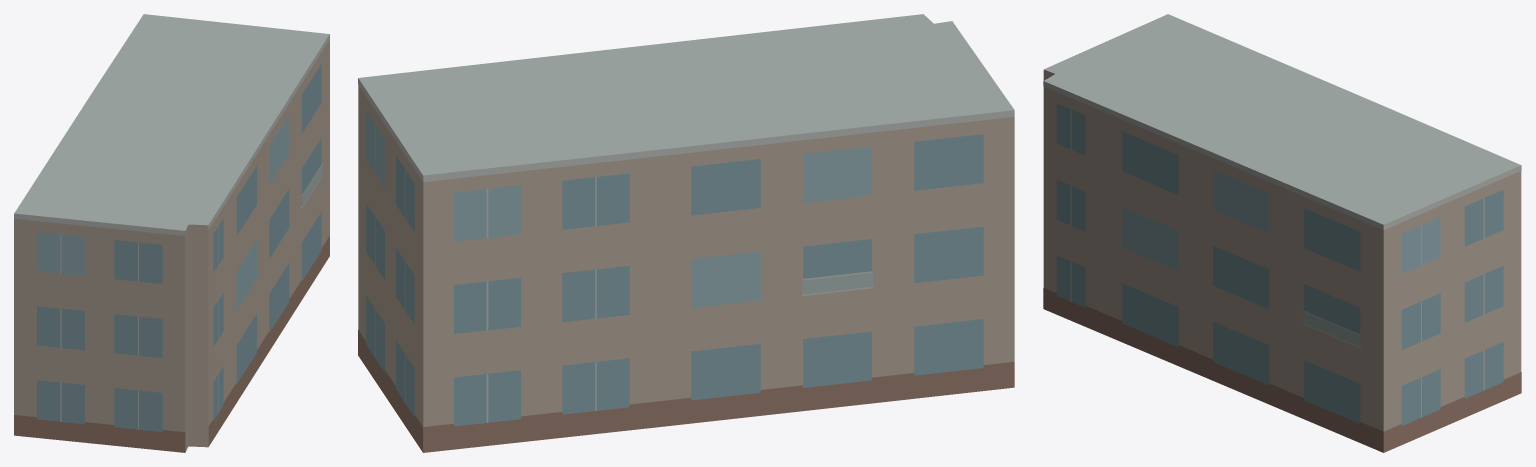
Rendered from survey-upis-33011268.glb.
The picture shows the model from 3 angles, left to right: view 1: azimuth 30°, elevation 25°; view 2: azimuth 150°, elevation 25°; view 3: azimuth 270°, elevation 25°; orthographic projection. The views are drawn at different scales.
Parts seen in each view (by area): view 1: survey-upis-33011268.tmp; view 2: survey-upis-33011268.tmp; view 3: survey-upis-33011268.tmp.
Boxes of the visible parts, <box> form: survey-upis-33011268.tmp: <box>14,14,329,452</box>; survey-upis-33011268.tmp: <box>358,14,1014,452</box>; survey-upis-33011268.tmp: <box>1043,14,1521,452</box>.
Bounding box in the file's own units: 20.43 × 10.3 × 19.57.
